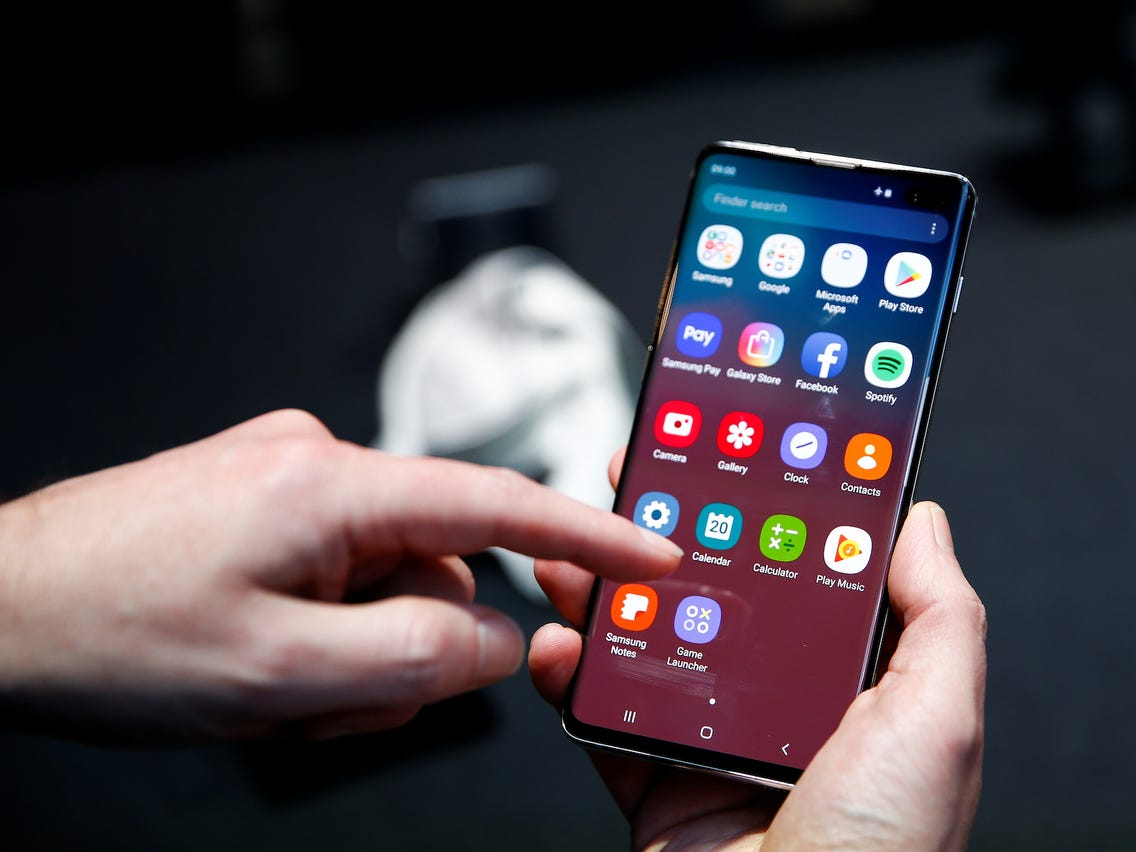Cell Phone: (614, 146, 952, 756)
